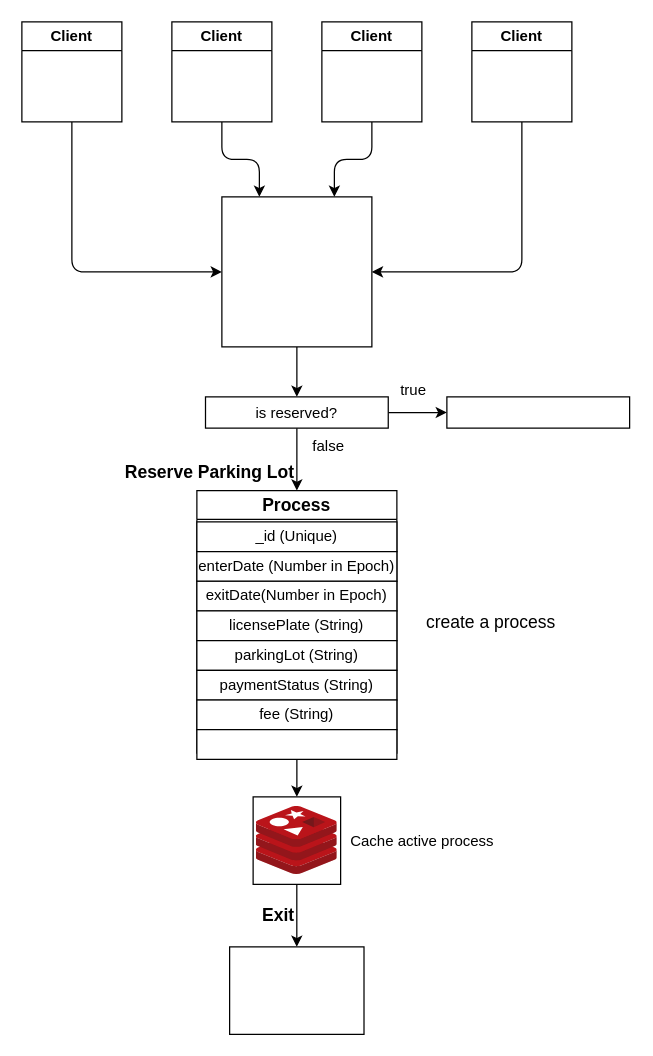
This 653x1056 diagram has some shape labels left out. Here are the shapes that lost their labels. From the top down, the centre of each, then its label:
the point at 296,271: Server
the point at 538,412: Return error message
the point at 296,743: processStatus (String)
the point at 296,990: Get parking lot from cache and update status paid-done in the db
